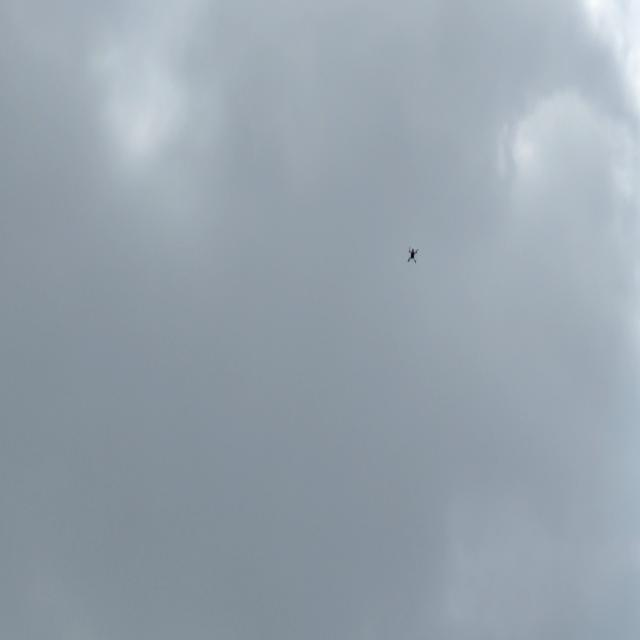drone: (402, 244, 425, 269)
